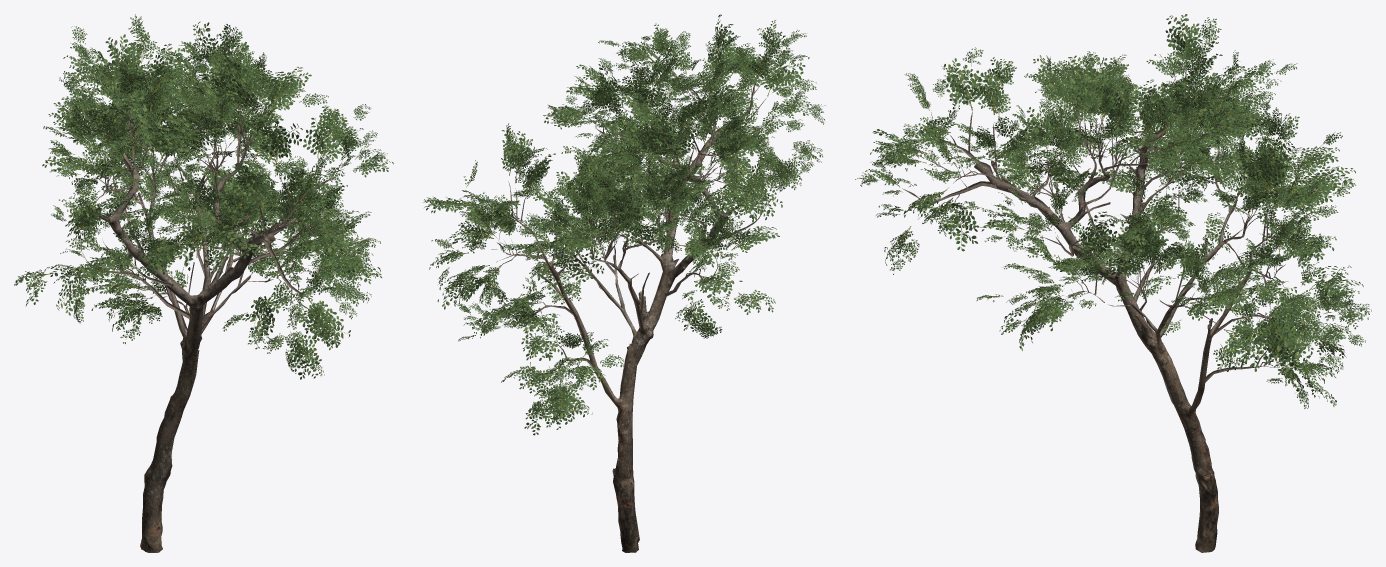
Rendered from tree_small_02-far.glb.
The picture shows the model from 3 angles, left to right: view 1: azimuth 30°, elevation 25°; view 2: azimuth 150°, elevation 25°; view 3: azimuth 270°, elevation 25°; orthographic projection. The views are drawn at different scales.
Visible parts, largest first — view 1: tree_small_02_LOD0; view 2: tree_small_02_LOD0; view 3: tree_small_02_LOD0.
Boxes of the visible parts, x1,y1,x2,y2 form: tree_small_02_LOD0: [14, 14, 393, 552]; tree_small_02_LOD0: [423, 14, 825, 552]; tree_small_02_LOD0: [855, 14, 1371, 552].
Size of the model in its own units: 2.92 by 4.56 by 4.29.
Materials: 3 (3 with a texture image).
